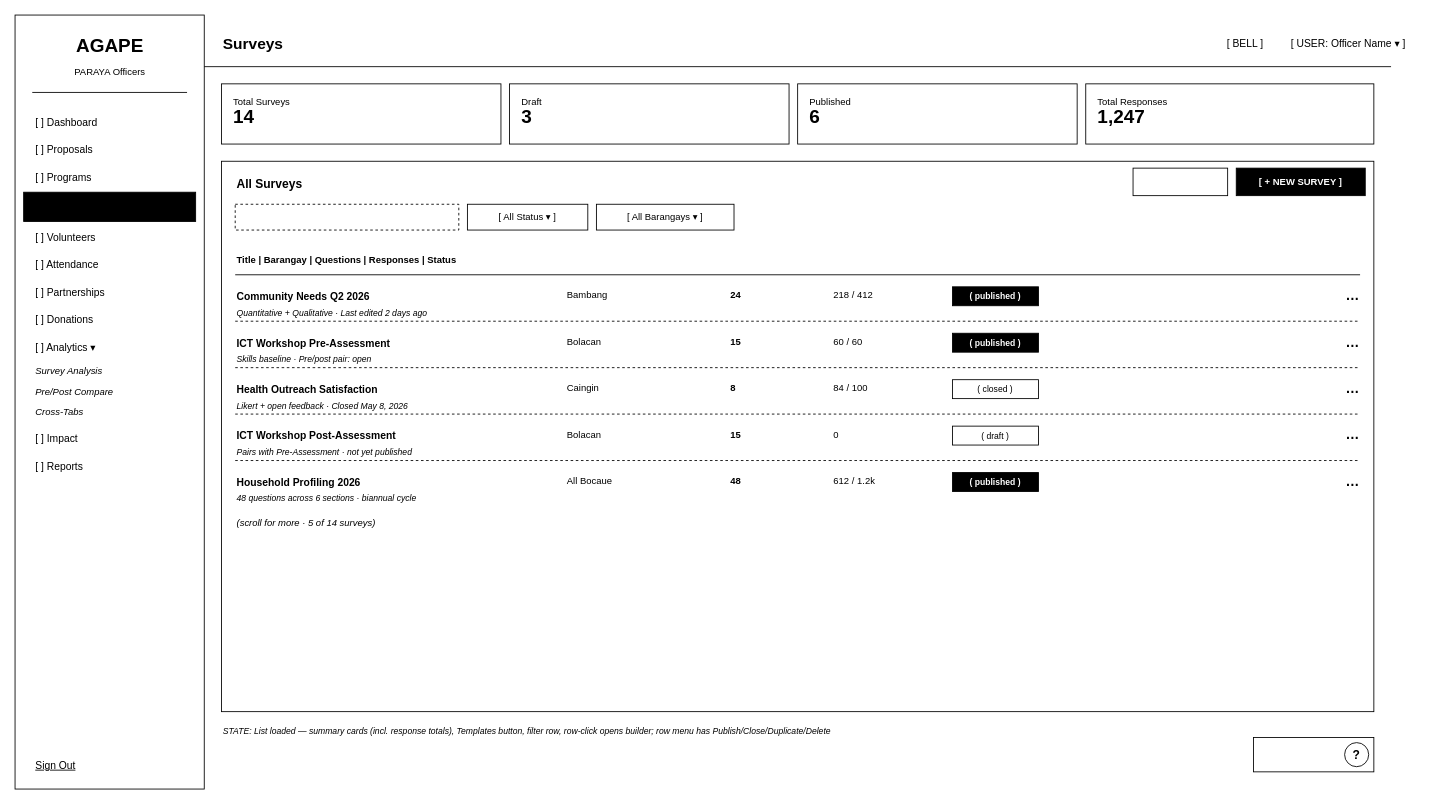
Image size: 1441x804. Some labels were removed from this diagram. The shapes that lost their labels are listed below. From the top down, each one's box as (x1, y1, x2, y2) in pixels, then its label:
(1132, 167, 1228, 196): [ Templates ]
(23, 191, 196, 221): [x] Surveys
(234, 203, 459, 230): 🔍 Search by title or barangay…
(1253, 737, 1374, 772): [ AI CHATBOT ]
